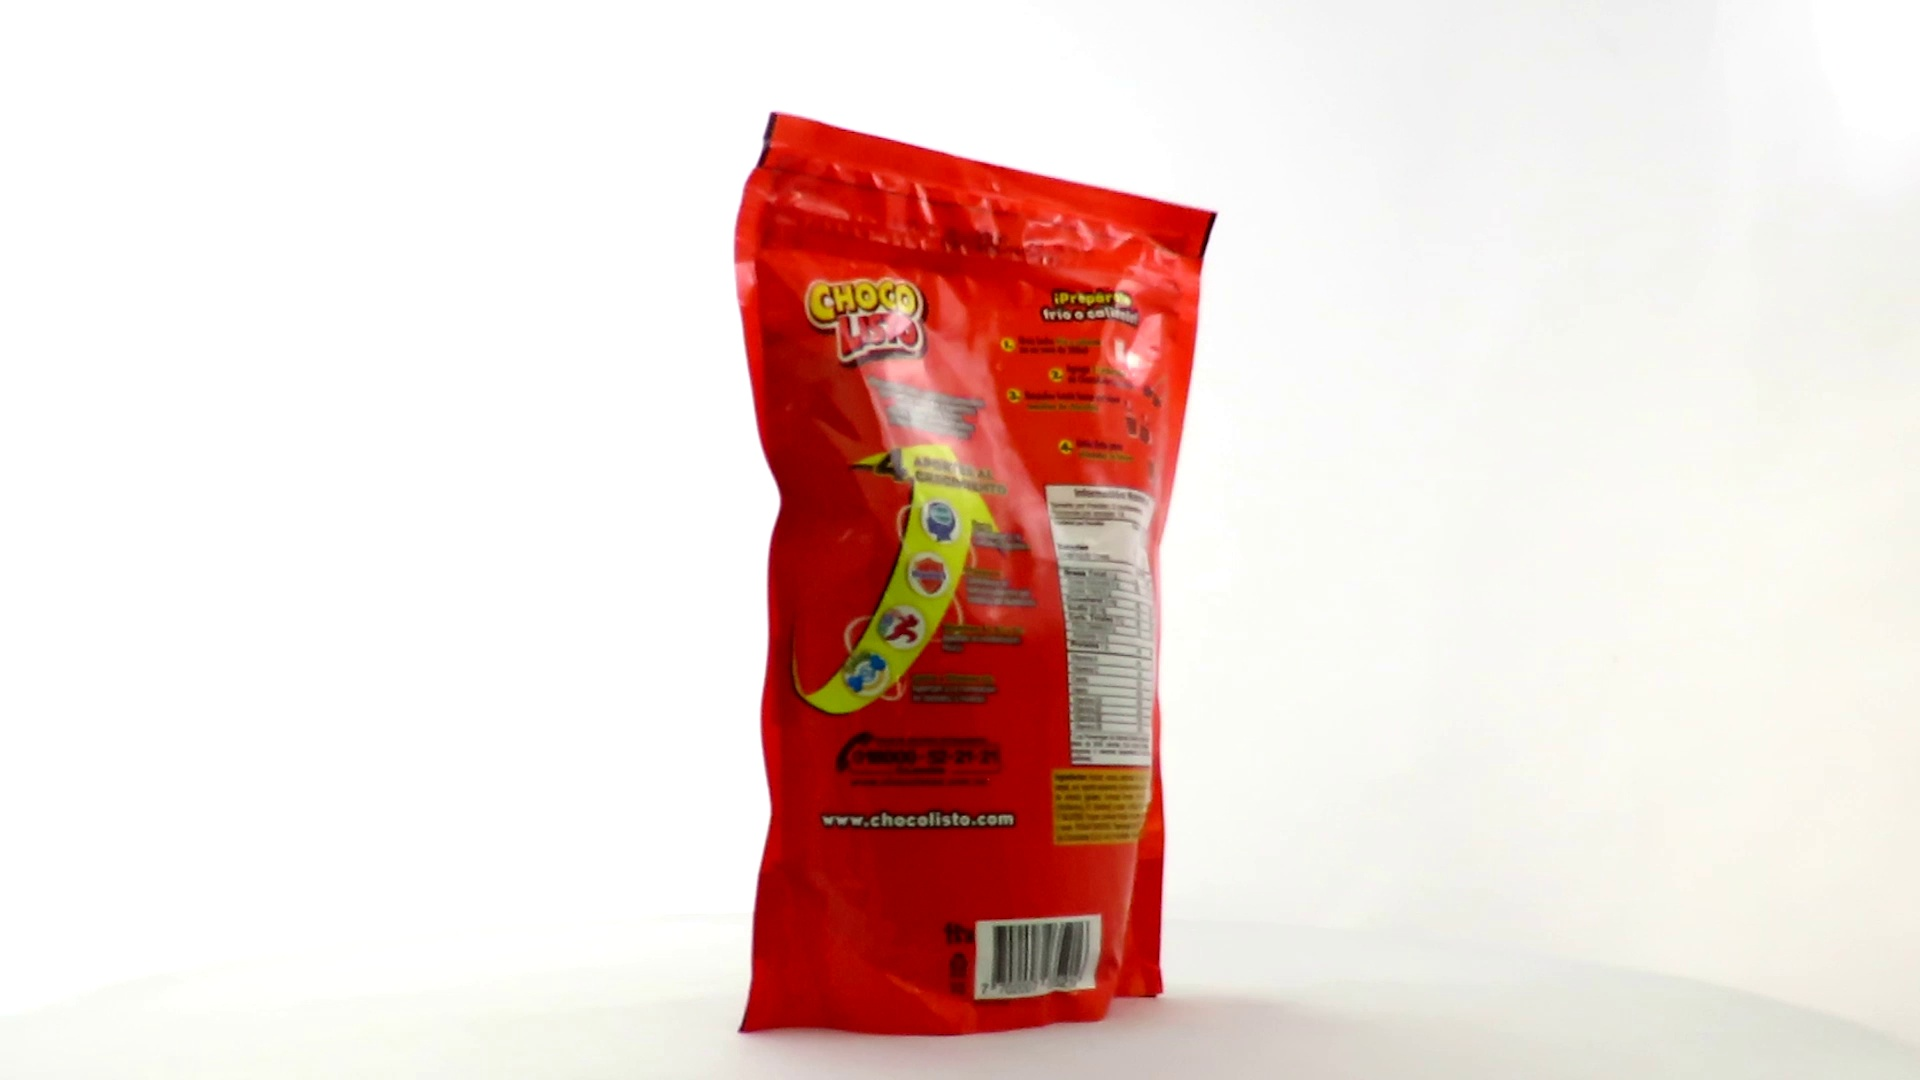COL0170103DYP36000: (729, 107, 1222, 1043)
